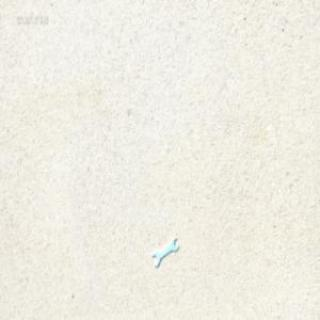Wrenchtrack_idkeyframe: (152, 237, 178, 267)
